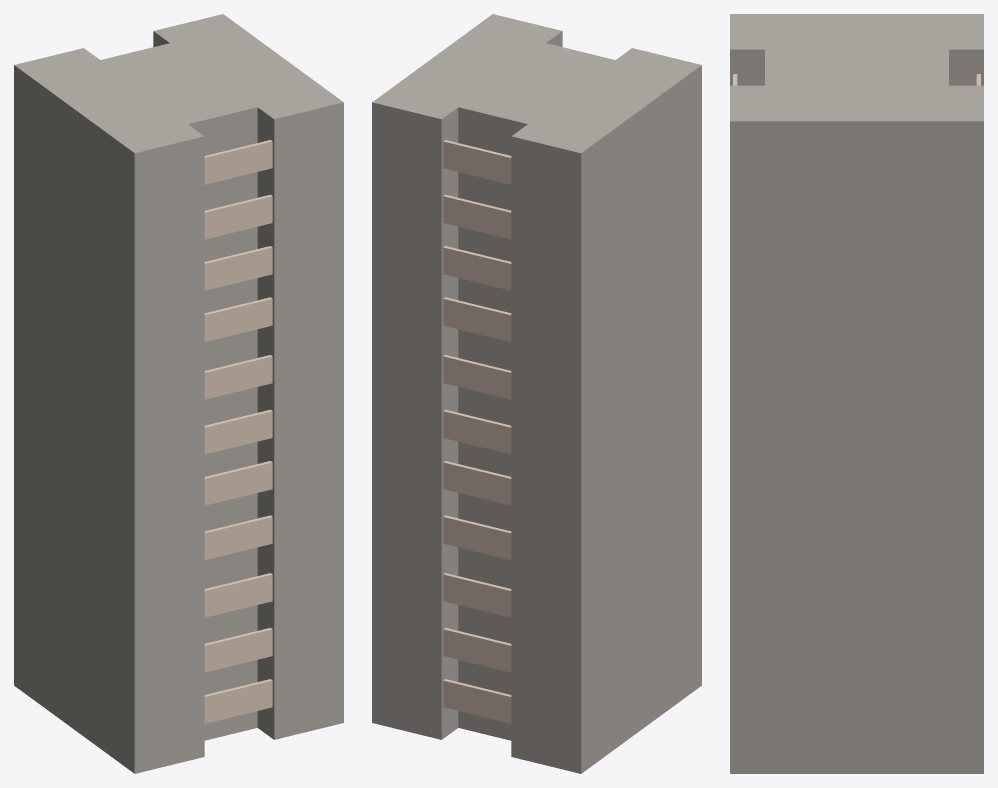
The model's file is tower-block.glb.
The picture shows the model from 3 angles, left to right: view 1: azimuth 30°, elevation 25°; view 2: azimuth 150°, elevation 25°; view 3: azimuth 270°, elevation 25°; orthographic projection. The views are drawn at different scales.
Parts seen in each view (by area): view 1: tower block; view 2: tower block; view 3: tower block.
Boxes of the visible parts, box(x1,y1,x2,y2) form: tower block: box(14, 14, 343, 773); tower block: box(372, 14, 701, 773); tower block: box(730, 14, 983, 773).
Size of the model in its own units: 7.37 by 20.92 by 7.37.
